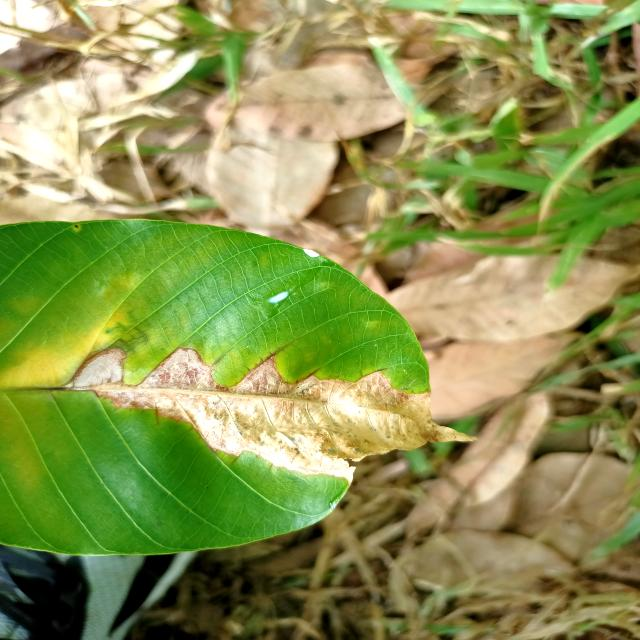Corynespora: (254, 349, 282, 370)
Leaf-Blight: (64, 348, 478, 484)
